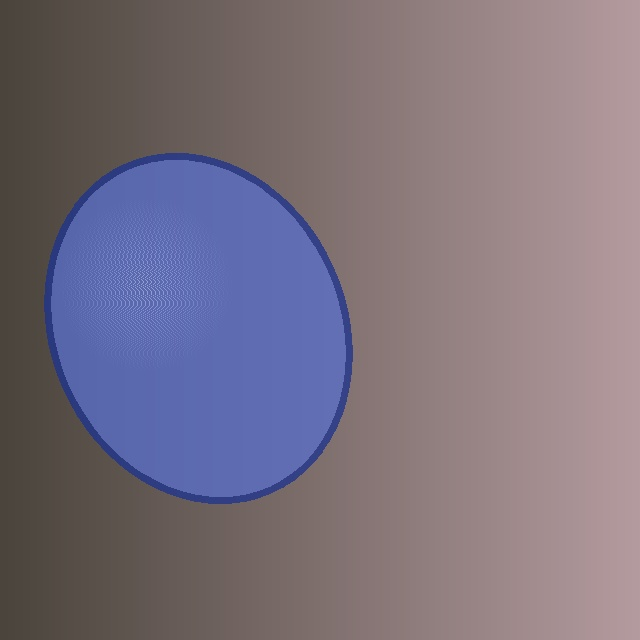lens: (47, 157, 349, 499)
